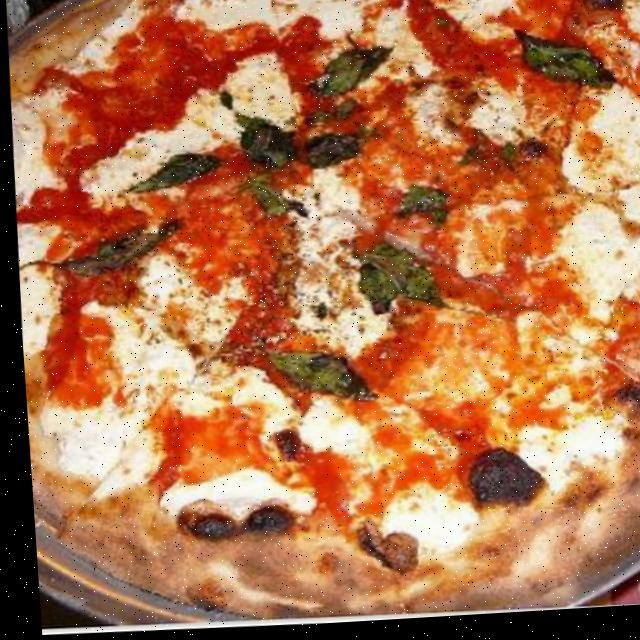basil: (12, 214, 180, 292), (244, 342, 376, 412), (351, 240, 448, 324), (507, 30, 617, 101), (299, 44, 401, 106), (115, 148, 221, 203), (225, 106, 298, 178), (226, 176, 309, 231), (291, 128, 366, 177), (388, 184, 451, 234), (303, 101, 360, 129)
pizza: (0, 0, 640, 639)
